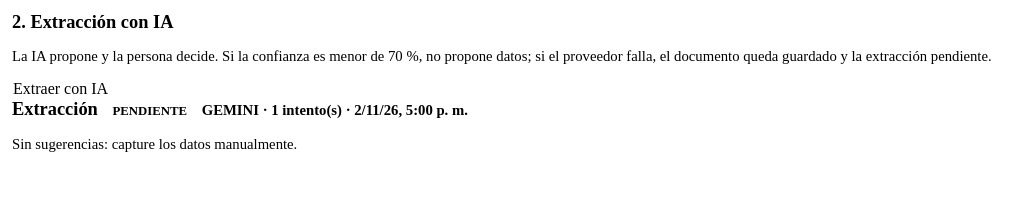
Test: ExtraccionesSection › si el proveedor falla muestra el aviso de extracción pendiente (no es un error de la aplicación)
Click the button "Extraer con IA". click: (61, 89)
box: [12,79,109,99]
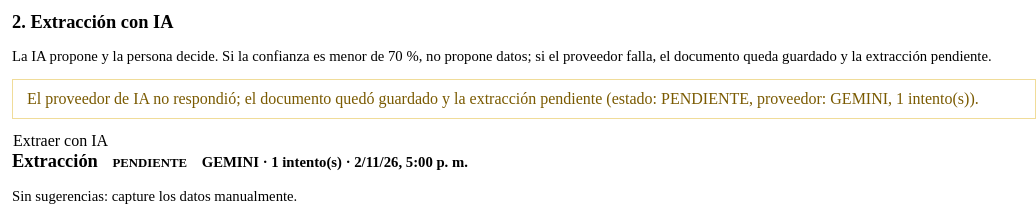
Expected: the text "Sin sugerencias: capture los datos manualmente." is shown, [12,188,297,204]
Expected: the message shows "la extracción pendiente", [27,90,979,107]
